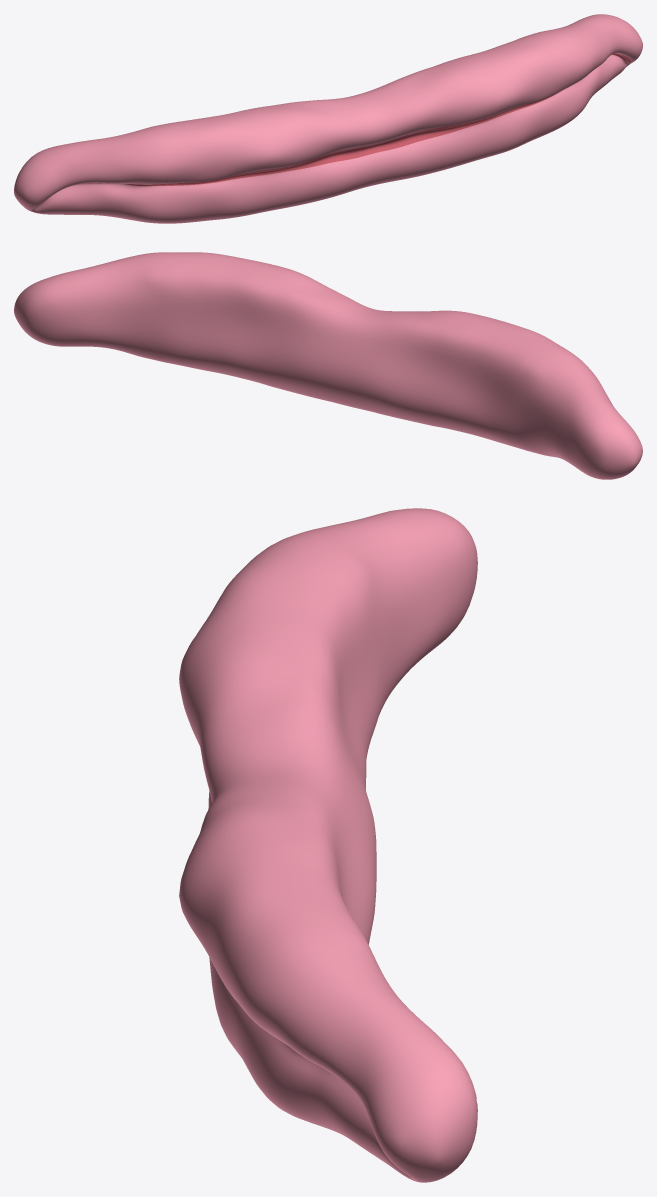
The model's file is Mouth_Human.fbx.
3 renders of one model, top to bottom at view 1: azimuth 30°, elevation 25°; view 2: azimuth 150°, elevation 25°; view 3: azimuth 270°, elevation 25°, orthographic. The views are drawn at different scales.
Visible parts, largest first — view 1: ObjMouse.001; view 2: ObjMouse.001; view 3: ObjMouse.001.
Boxes of the visible parts, <box> form: ObjMouse.001: <box>14,14,642,223</box>; ObjMouse.001: <box>14,252,642,479</box>; ObjMouse.001: <box>179,508,477,1182</box>.
Size of the model in its own units: 99.84 by 15.91 by 20.76.
